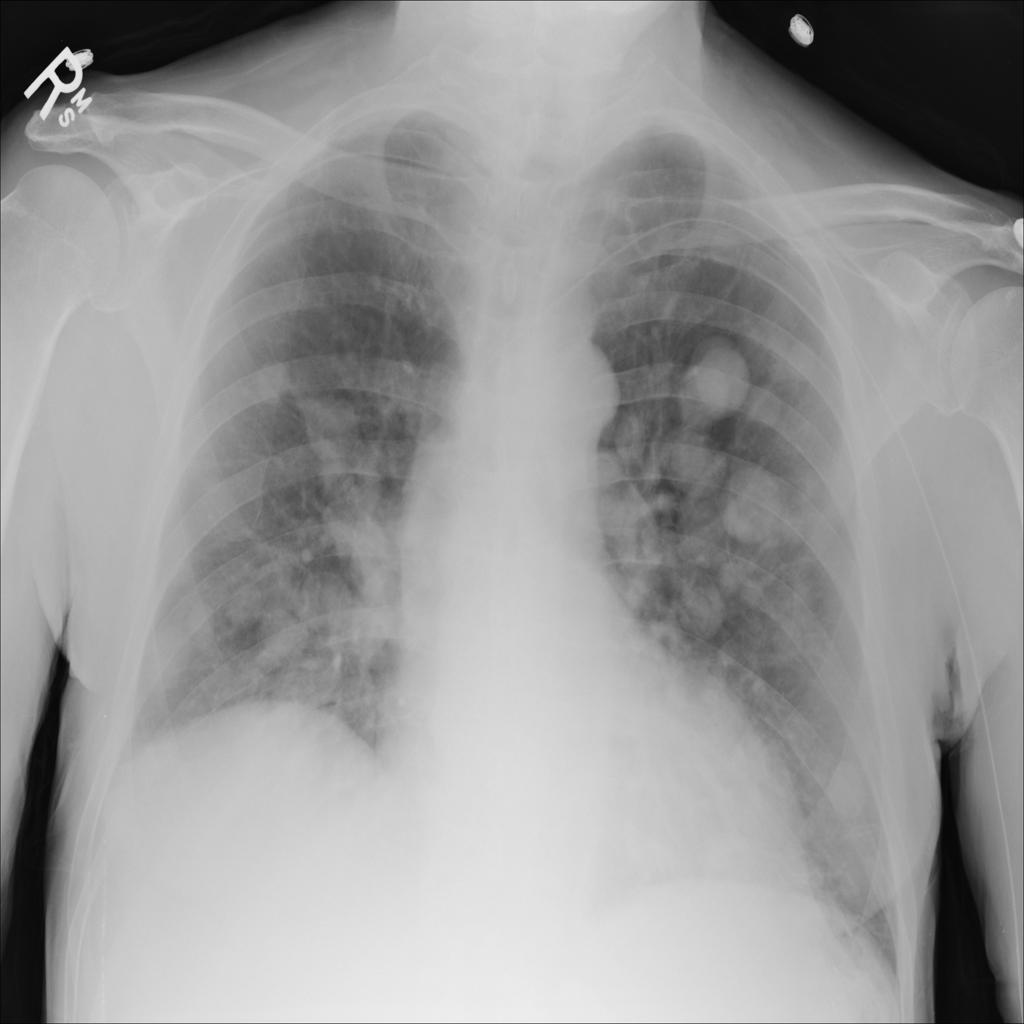nodule: (676, 338, 753, 425), (722, 461, 798, 547), (295, 380, 367, 463), (657, 420, 727, 500), (140, 616, 204, 697), (671, 565, 736, 644), (256, 605, 322, 682), (237, 341, 305, 414), (207, 567, 275, 640), (760, 322, 830, 391), (761, 601, 821, 681), (717, 545, 775, 620), (738, 388, 797, 440), (702, 224, 753, 275)
